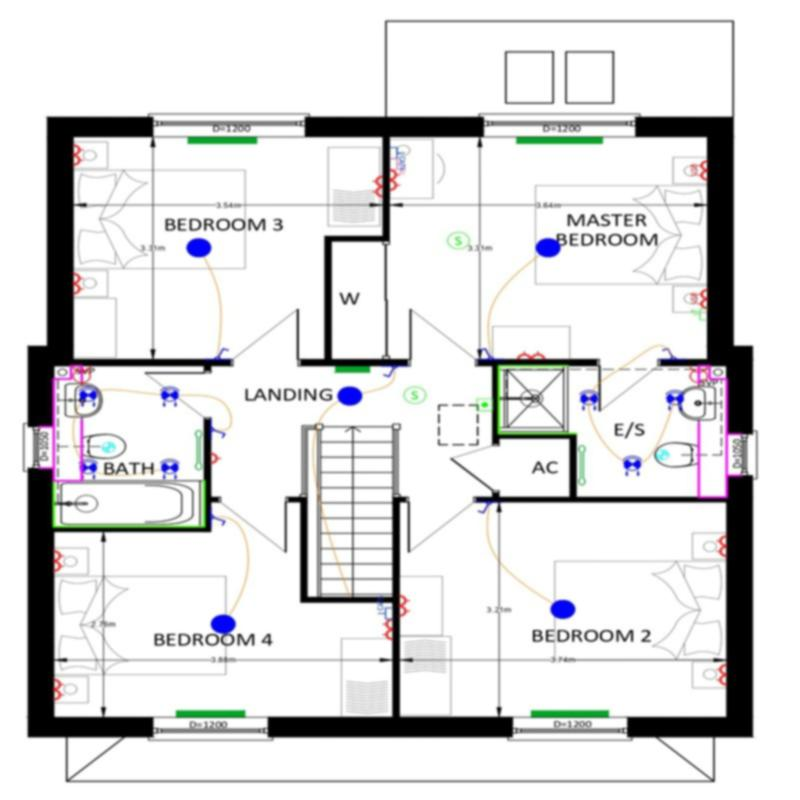Cat 6 Data Socket: (376, 594, 393, 619), (390, 147, 405, 169)
Ceiling Mounted Continuous Extract FanWith Boost Mode Activated By Light Switch: (656, 450, 669, 460), (102, 442, 115, 452)
Co-Ax TV Socket: (390, 158, 405, 175)
Double Socket: (517, 350, 545, 360), (73, 272, 84, 296), (389, 170, 401, 192), (73, 144, 84, 167), (54, 678, 65, 701), (400, 595, 410, 617), (372, 176, 382, 198), (716, 536, 726, 558), (54, 551, 64, 572), (382, 620, 393, 639), (717, 665, 726, 686)
Full Height Tiling: (52, 482, 206, 527), (498, 365, 576, 435)
Light Switch: (211, 427, 226, 439), (211, 515, 226, 527), (661, 348, 676, 359), (478, 502, 491, 514), (383, 366, 397, 377), (215, 348, 229, 359), (481, 348, 493, 359)
Low Energy Downlighter: (159, 459, 179, 479), (160, 386, 179, 407), (623, 455, 642, 476), (78, 460, 98, 479), (580, 390, 598, 411), (666, 390, 684, 411), (79, 387, 97, 407)
Low Energy Pendant Light: (535, 238, 561, 257), (186, 238, 212, 257), (337, 387, 362, 406), (550, 600, 575, 619), (211, 615, 236, 634)
Mains Wired Smoke Detector: (447, 232, 470, 249), (404, 386, 426, 403)
Programmable Room Thermostat: (477, 398, 492, 411)
Radiator: (531, 710, 610, 719), (516, 137, 603, 144), (176, 711, 246, 718), (188, 137, 258, 144), (335, 366, 370, 372)
Shaver Socket: (73, 366, 92, 387), (690, 366, 708, 387)
Single Socket: (211, 453, 221, 464)
USB Double Socket: (690, 160, 707, 180), (691, 289, 707, 308)
